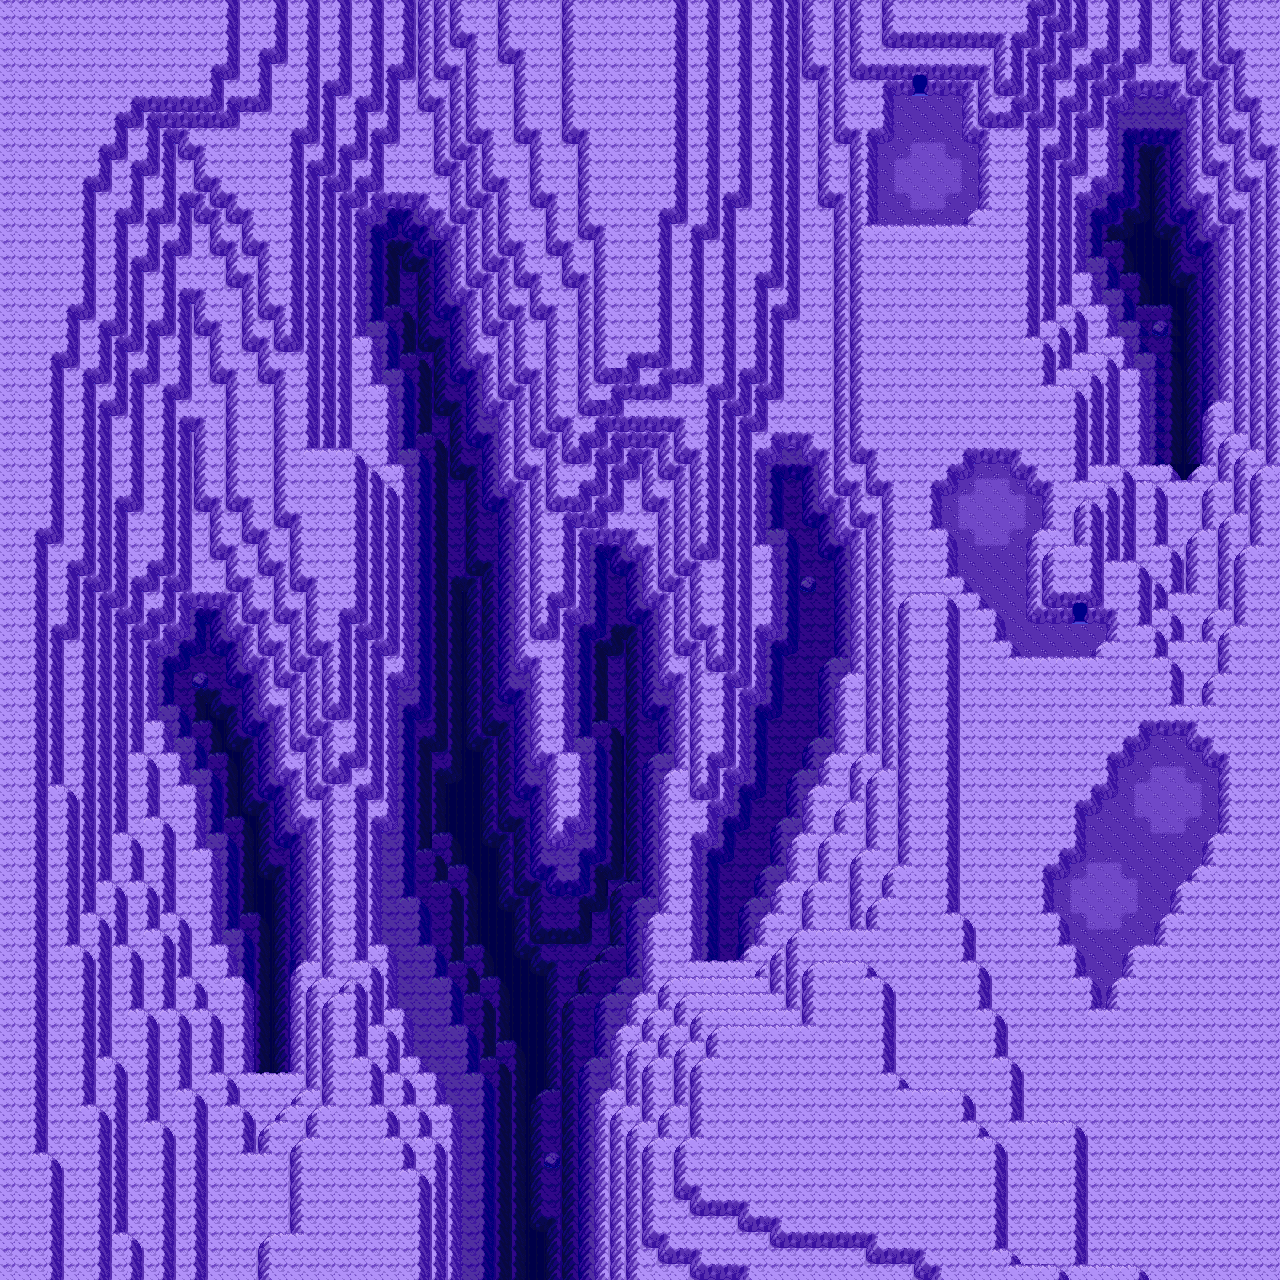cave: (891, 57, 948, 101)
